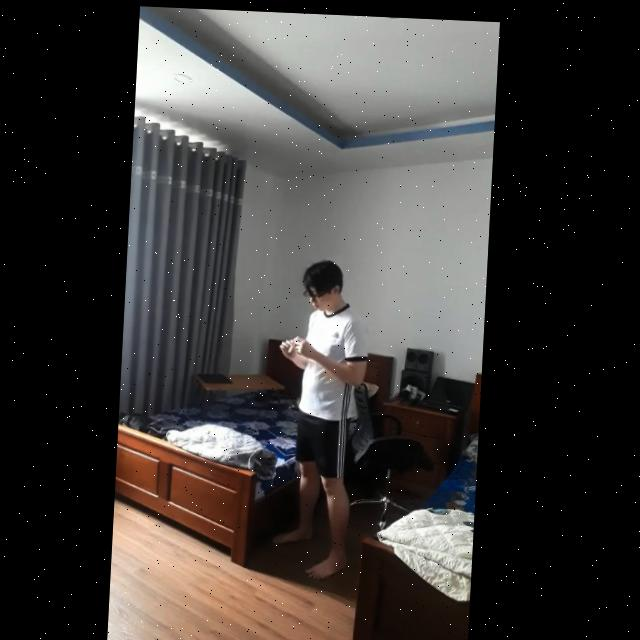cigarette: (291, 333, 304, 351)
